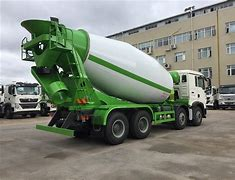specialcar: (16, 18, 217, 143)
